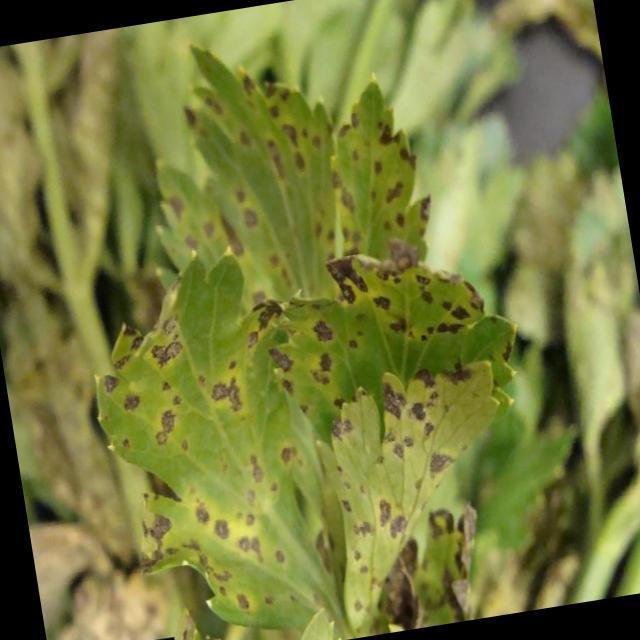Septoria: (112, 308, 308, 630), (250, 208, 492, 400), (324, 364, 501, 580)
